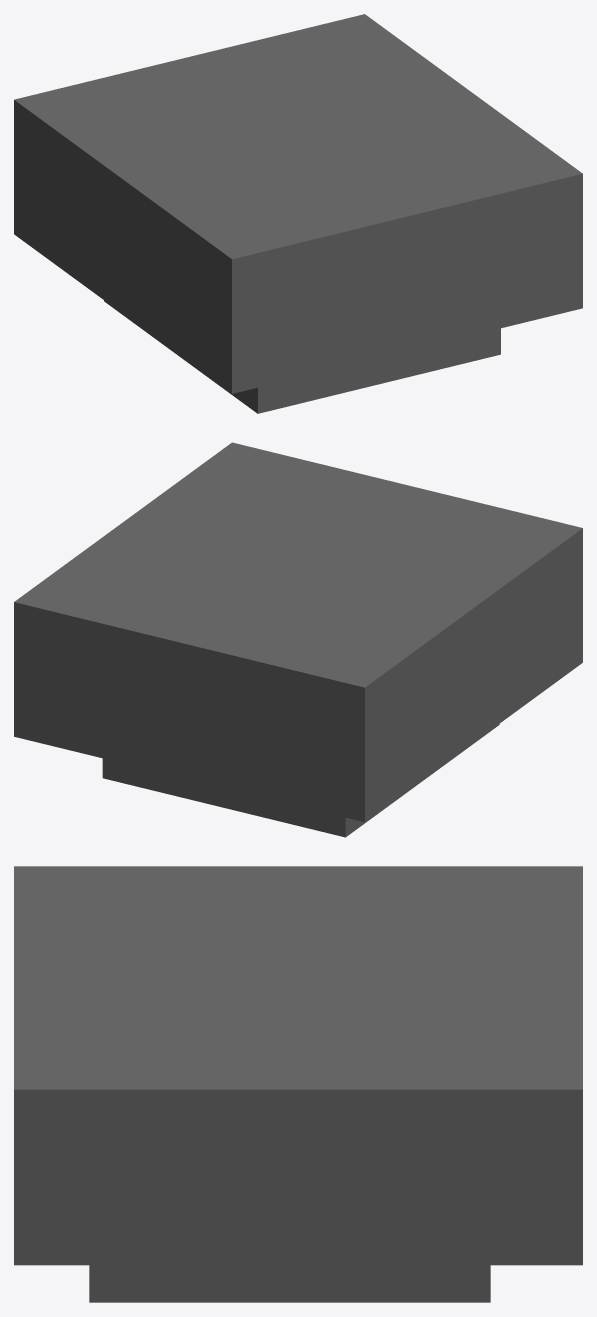
File: Button_1.fbx
3 views of the same model, one above another, from view 1: azimuth 30°, elevation 25°; view 2: azimuth 150°, elevation 25°; view 3: azimuth 270°, elevation 25° (orthographic). The views are drawn at different scales.
Visible parts, largest first — view 1: Control_Button; view 2: Control_Button; view 3: Control_Button.
Boxes of the visible parts, x1=… form: Control_Button: x1=14, y1=14, x2=582, y2=413; Control_Button: x1=14, y1=442, x2=582, y2=837; Control_Button: x1=14, y1=866, x2=582, y2=1302.
Bounding box in the file's own units: 3.01 × 1.55 × 3.24.
Materials: 1 (1 with a texture image).
